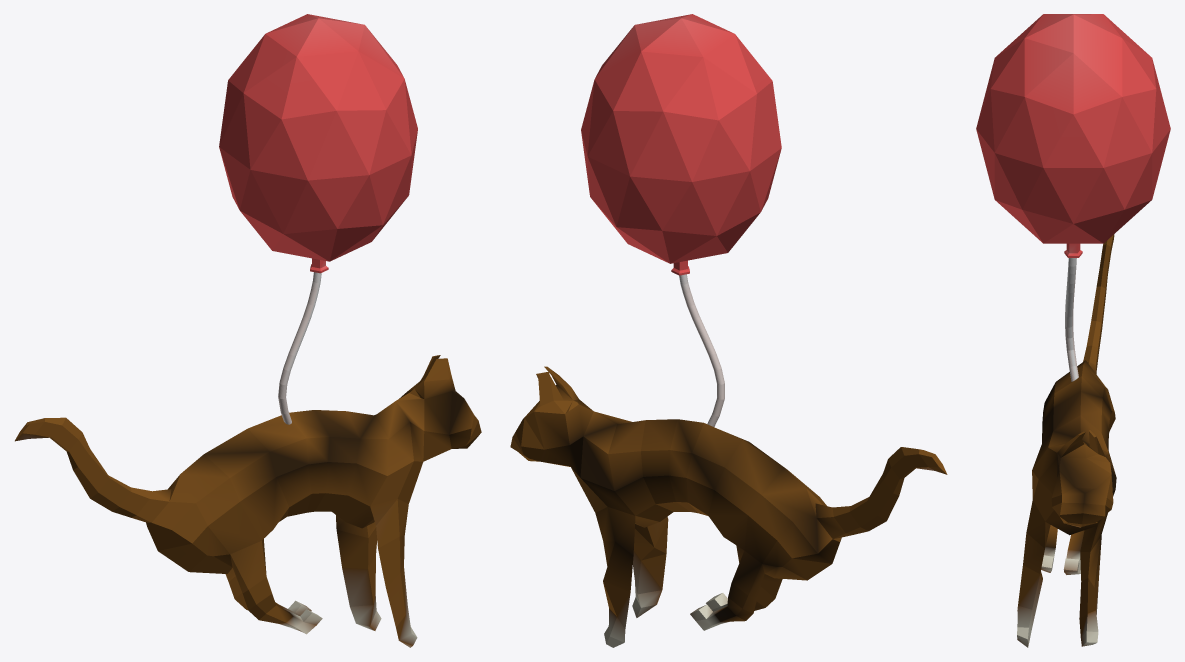
The model's file is cat_with_balloon.fbx.
The picture shows the model from 3 angles, left to right: view 1: azimuth 30°, elevation 25°; view 2: azimuth 150°, elevation 25°; view 3: azimuth 270°, elevation 25°; orthographic projection. The views are drawn at different scales.
Visible parts, largest first — view 1: Cube.001; view 2: Cube.001; view 3: Cube.001.
Boxes of the visible parts, bbox=[...] form: Cube.001: bbox=[15, 14, 481, 647]; Cube.001: bbox=[510, 14, 947, 647]; Cube.001: bbox=[976, 14, 1170, 647].
Size of the model in its own units: 502 by 684 by 200.
